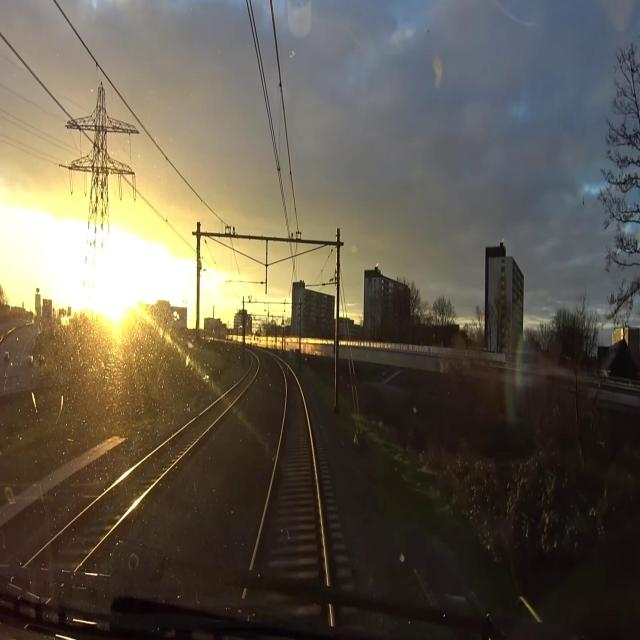rail-track: (34, 356, 257, 567), (255, 365, 324, 578)
